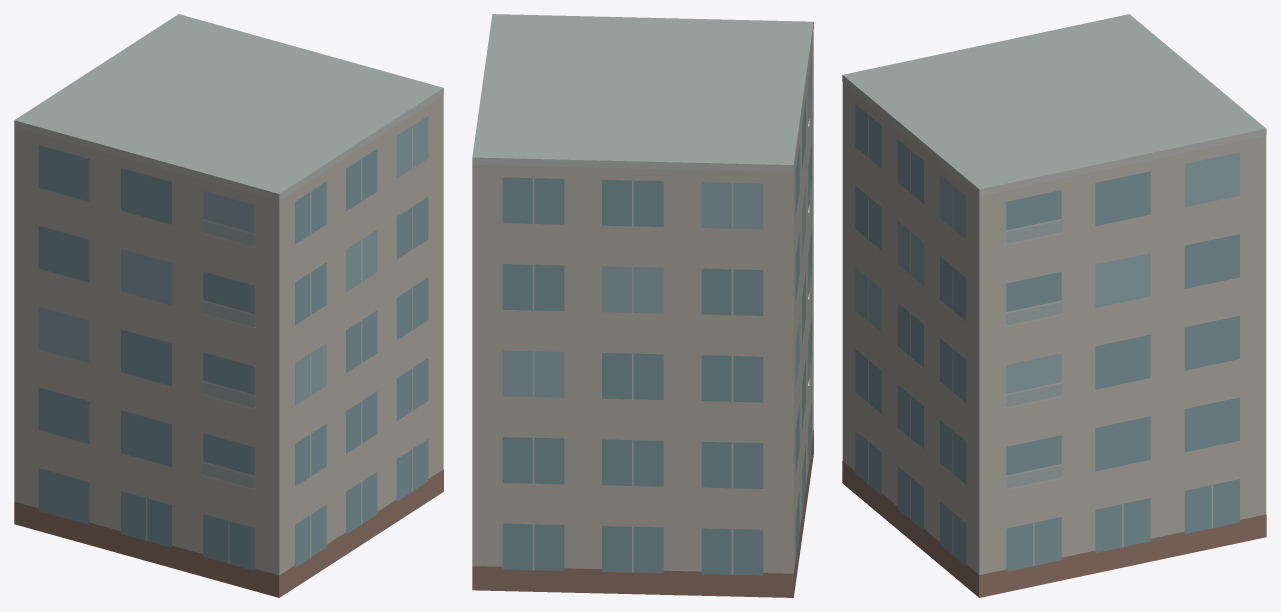
Rendered from survey-upis-32828451.glb.
The picture shows the model from 3 angles, left to right: view 1: azimuth 30°, elevation 25°; view 2: azimuth 150°, elevation 25°; view 3: azimuth 270°, elevation 25°; orthographic projection. The views are drawn at different scales.
Parts seen in each view (by area): view 1: survey-upis-32828451.tmp; view 2: survey-upis-32828451.tmp; view 3: survey-upis-32828451.tmp.
Part boxes in pixels (x1,y1,x2,y2): survey-upis-32828451.tmp: (14, 14, 443, 597); survey-upis-32828451.tmp: (472, 14, 813, 597); survey-upis-32828451.tmp: (842, 14, 1266, 597).
Bounding box in the file's own units: 13.41 × 14.55 × 13.69.
